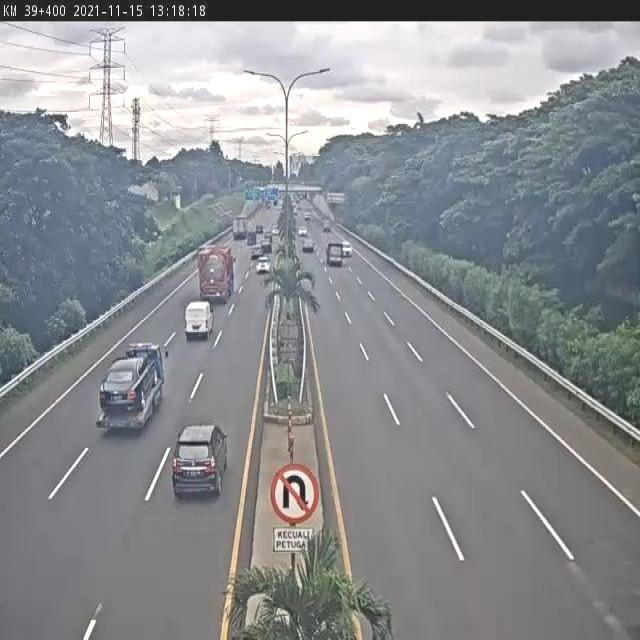Car: (172, 420, 224, 501), (253, 255, 273, 277), (301, 235, 316, 253), (342, 240, 353, 258), (297, 224, 308, 236)
Truck: (97, 345, 165, 437), (197, 244, 237, 304), (232, 213, 247, 240)
Van: (183, 301, 214, 341)
